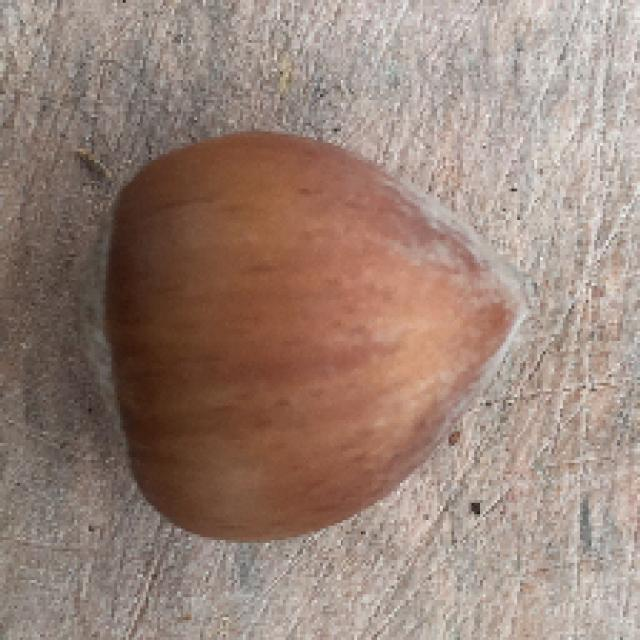qualityHazelnut: (70, 128, 534, 539)
